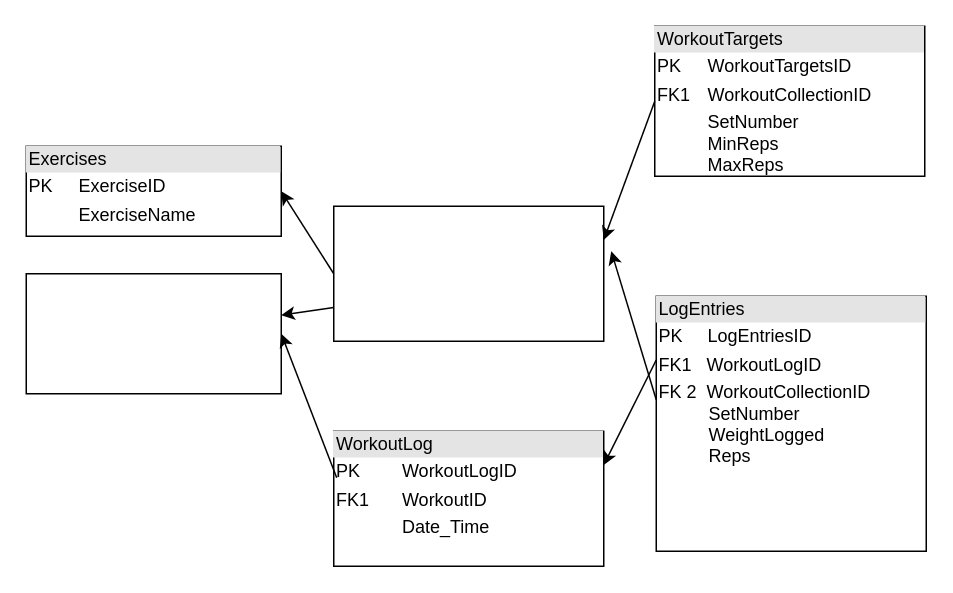
Image size: 953x593. Some labels were removed from this diagram. Here are the shapes that lost their labels. From the top down, the box of each, then its label:
(332, 205, 604, 341): WorkoutCollection PK WorkoutCollectionID FK1 ExerciseID FK2 WorkoutID
(25, 272, 281, 394): Workout PK WorkoutID WorkoutName WorkoutActive
